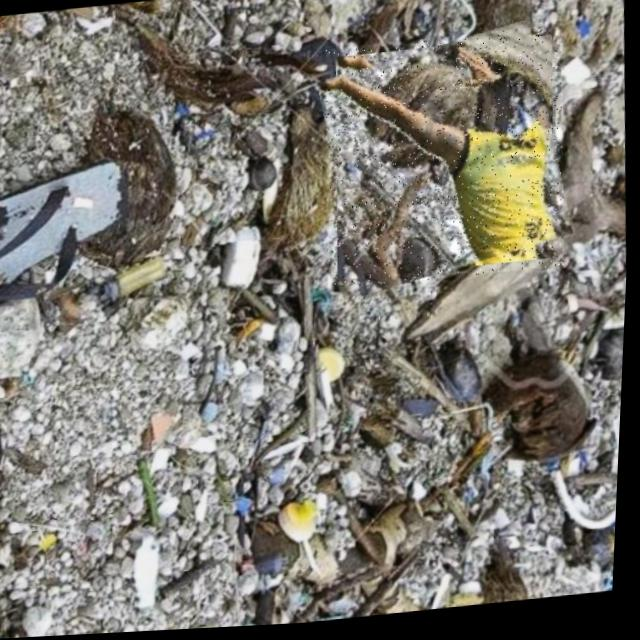Person in Rubble: (317, 31, 574, 295)
